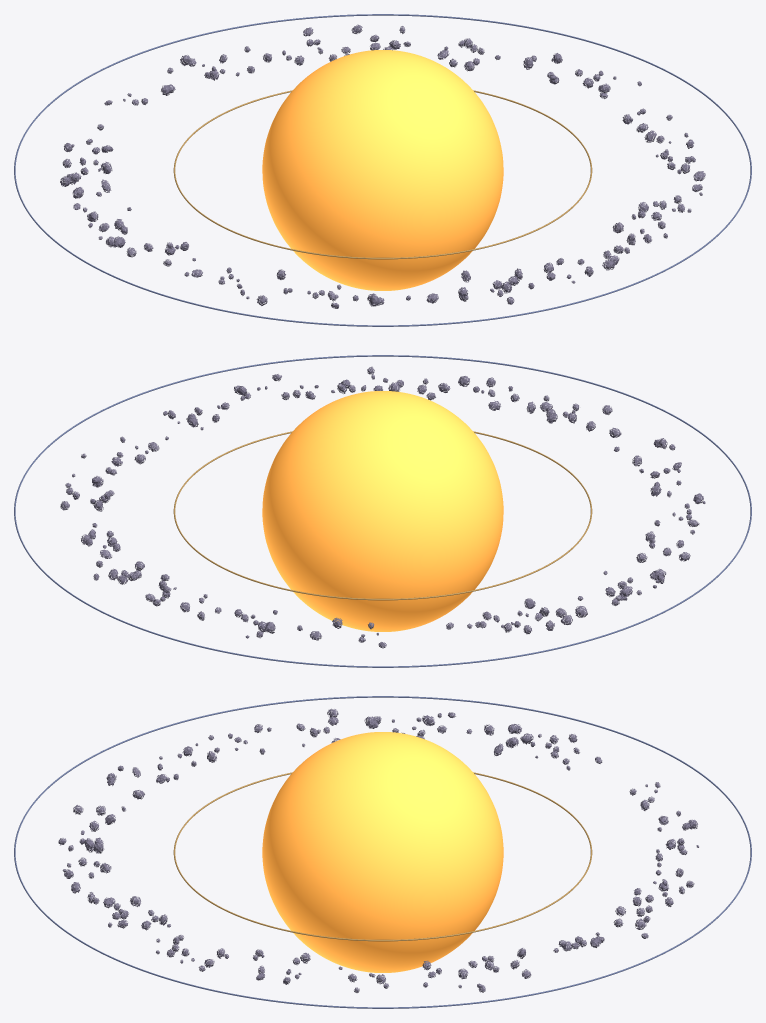
Rendered from universe.glb.
The picture shows the model from 3 angles, top to bottom: view 1: azimuth 30°, elevation 25°; view 2: azimuth 150°, elevation 25°; view 3: azimuth 270°, elevation 25°; orthographic projection.
Parts seen in each view (by area): view 1: Sun, Orbit_1, Orbit_0; view 2: Sun, Orbit_1, Orbit_0; view 3: Sun, Orbit_1, Orbit_0.
Part boxes in pixels (x1,y1,x2,y2): Sun: (262, 50, 503, 290); Orbit_1: (14, 14, 751, 326); Orbit_0: (173, 90, 592, 259); Sun: (262, 391, 503, 631); Orbit_1: (14, 355, 751, 667); Orbit_0: (173, 431, 592, 600); Sun: (262, 732, 503, 972); Orbit_1: (14, 696, 751, 1008); Orbit_0: (173, 772, 592, 941).
Bounding box in the file's own units: 8.32 × 2.72 × 8.32.
